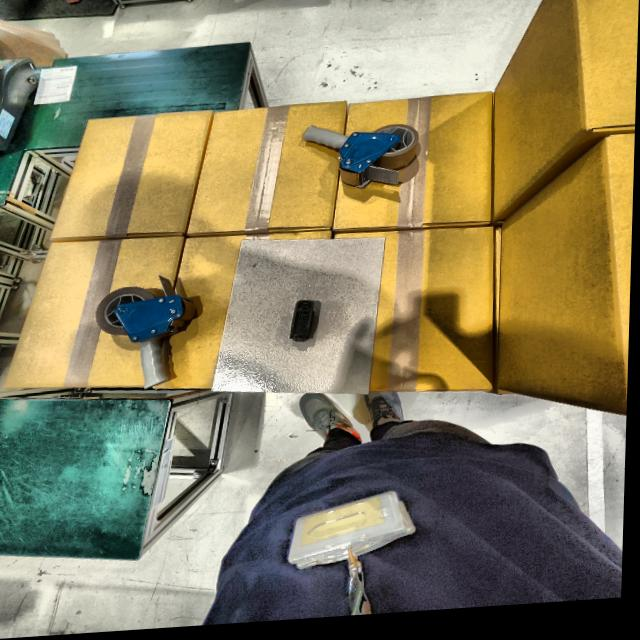P38: (292, 305, 316, 346)
